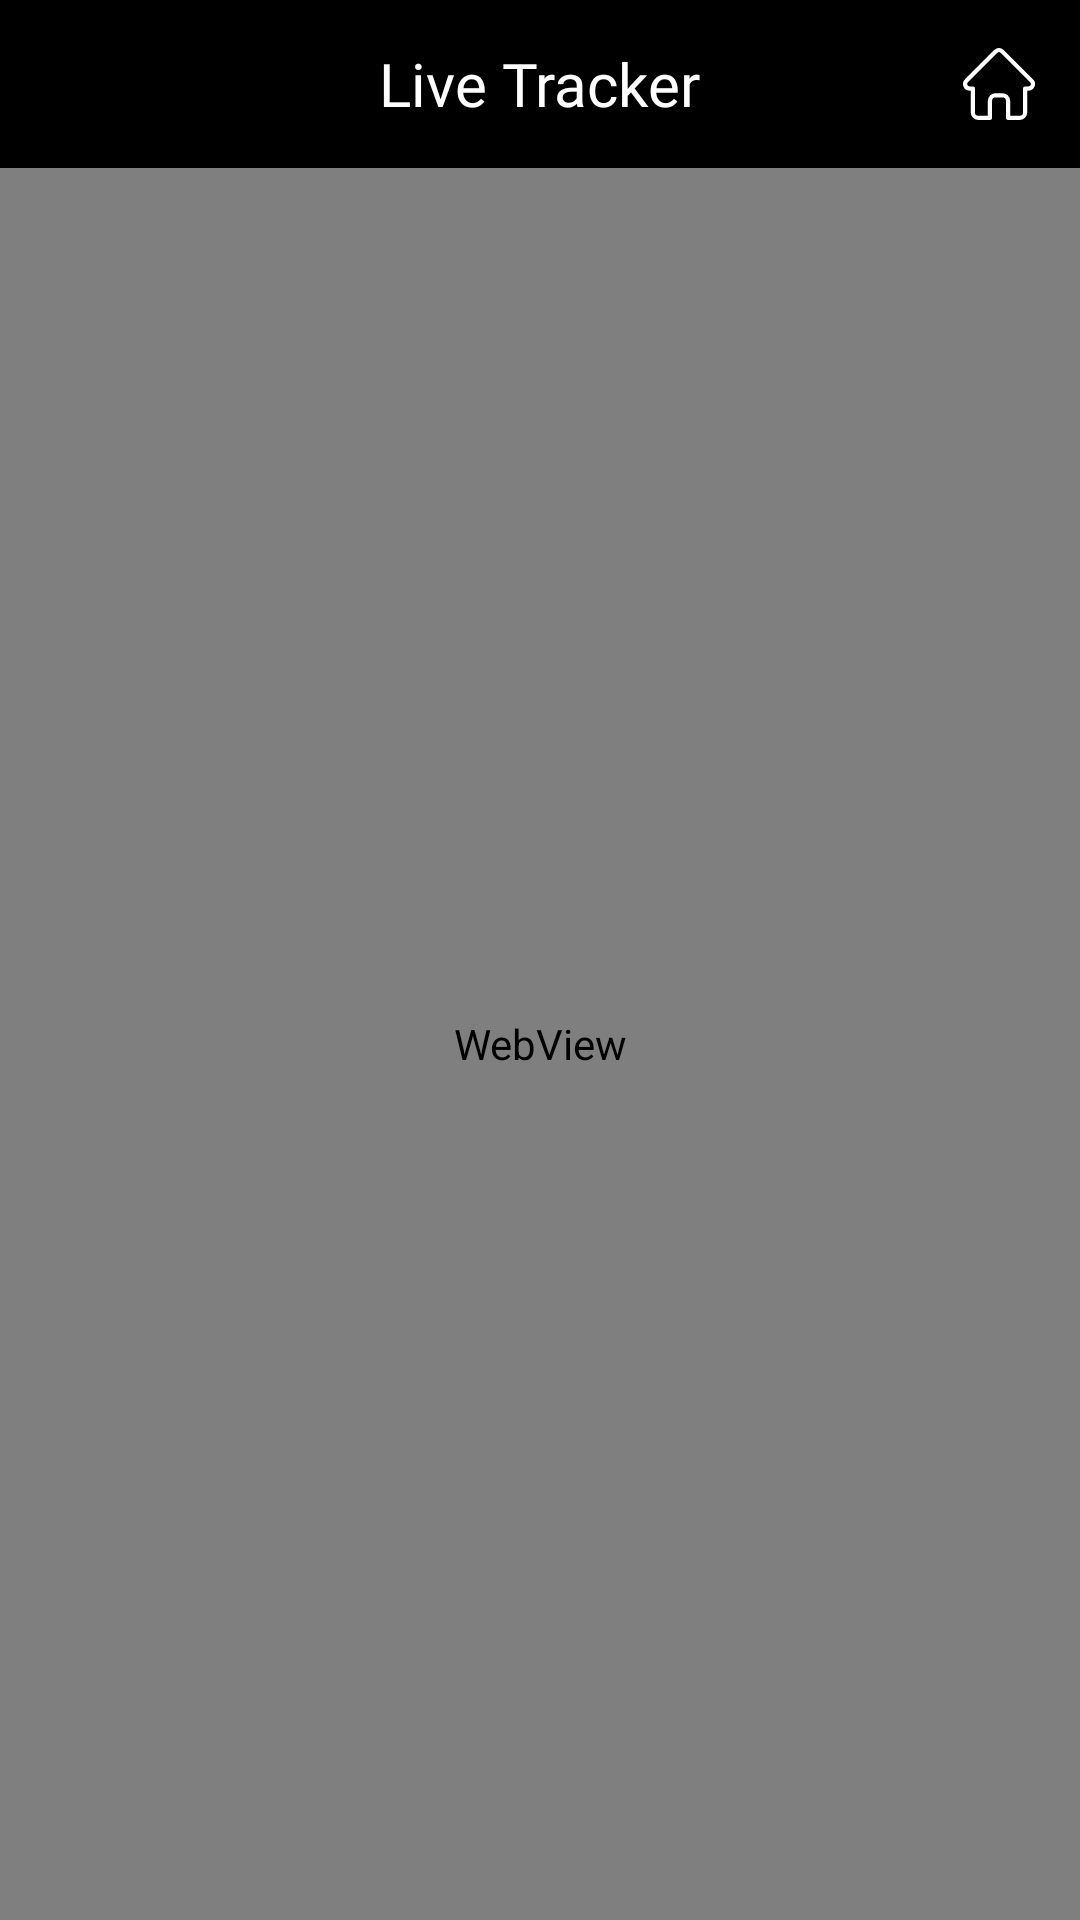

Where to tap for icons on this 1080×1920 app screen, as (x,y):
home: (999,84)
